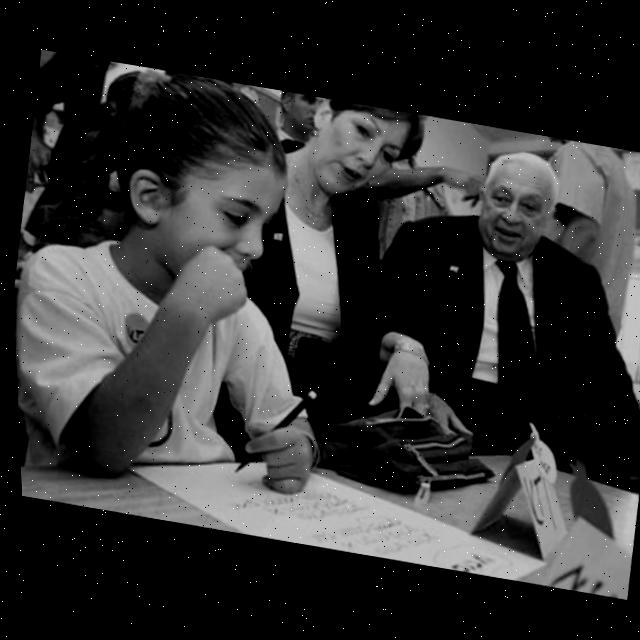face: (79, 68, 302, 316), (304, 96, 432, 214), (469, 147, 560, 271)
